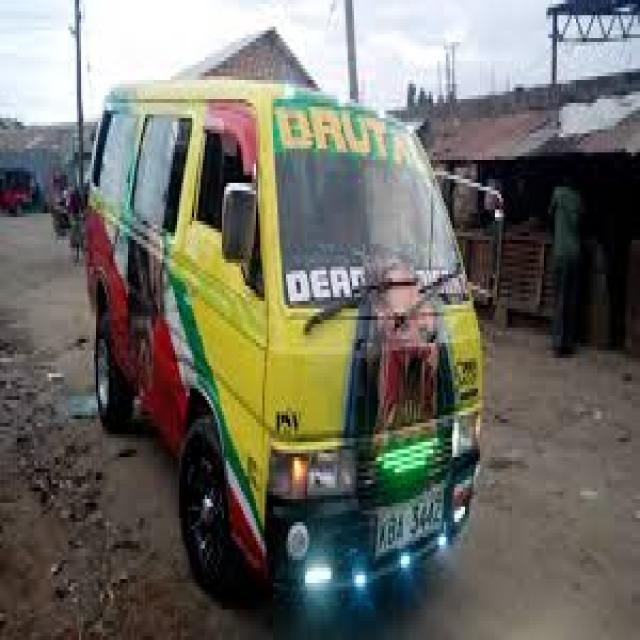matatu: (76, 45, 542, 632)
